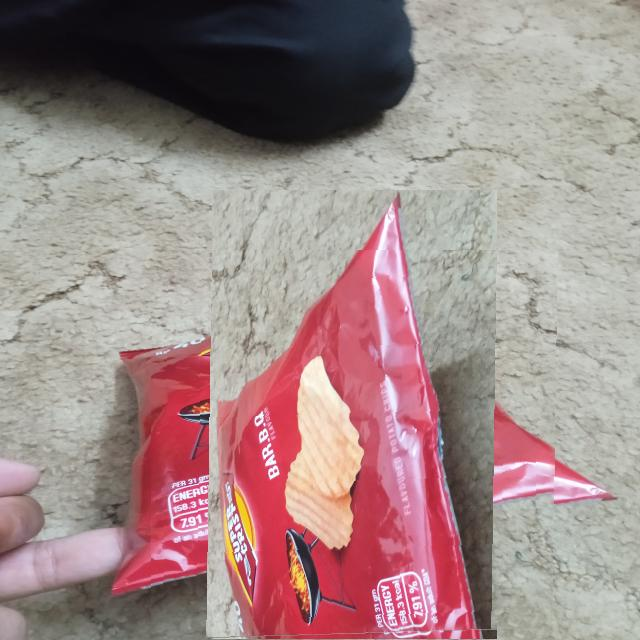Plastic: (151, 250, 558, 640)
